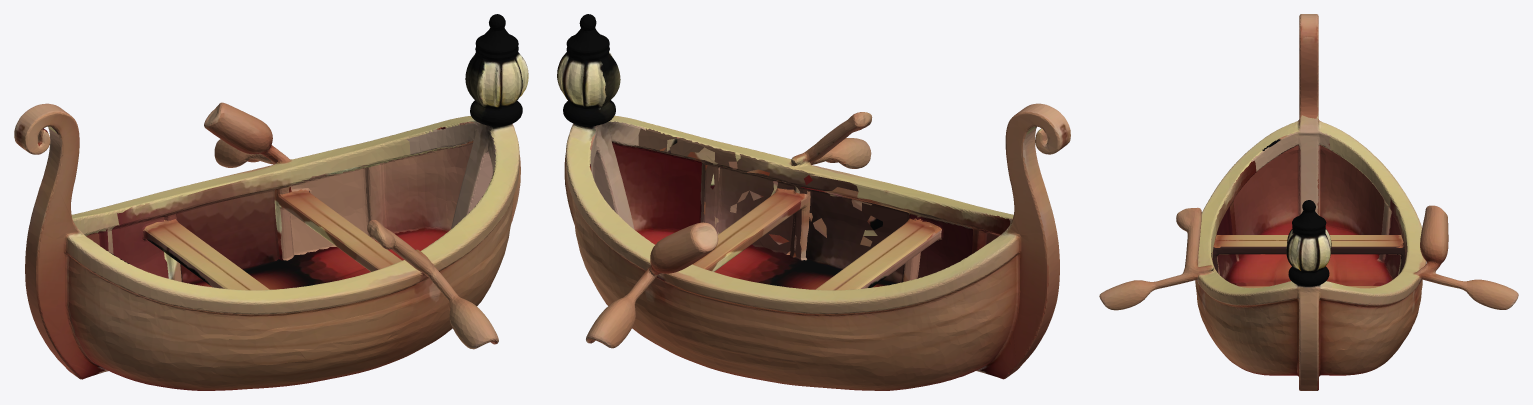
File: dock_wooden_rowboat.glb
The picture shows the model from 3 angles, left to right: view 1: azimuth 30°, elevation 25°; view 2: azimuth 150°, elevation 25°; view 3: azimuth 270°, elevation 25°; orthographic projection. The views are drawn at different scales.
Visible parts, largest first — view 1: tmp9e3ru17o.ply; view 2: tmp9e3ru17o.ply; view 3: tmp9e3ru17o.ply.
Boxes of the visible parts, x1,y1,x2,y2 form: tmp9e3ru17o.ply: [14, 14, 528, 390]; tmp9e3ru17o.ply: [557, 14, 1070, 390]; tmp9e3ru17o.ply: [1099, 14, 1518, 390].
Bounding box in the file's own units: 1.98 × 1.08 × 1.84.
Materials: 1 (1 with a texture image).
